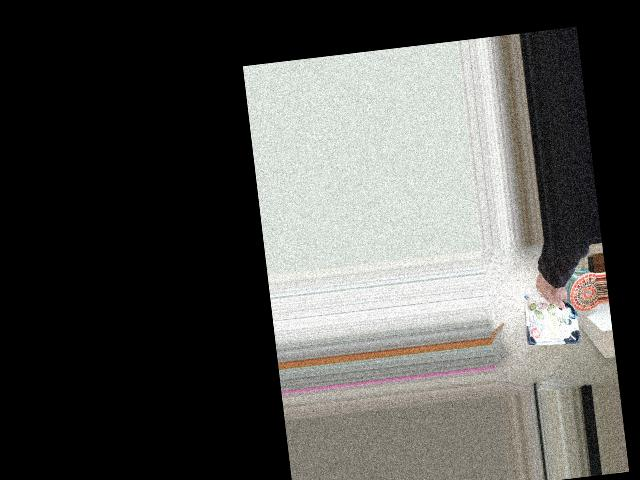cheese: (513, 273, 587, 347)
